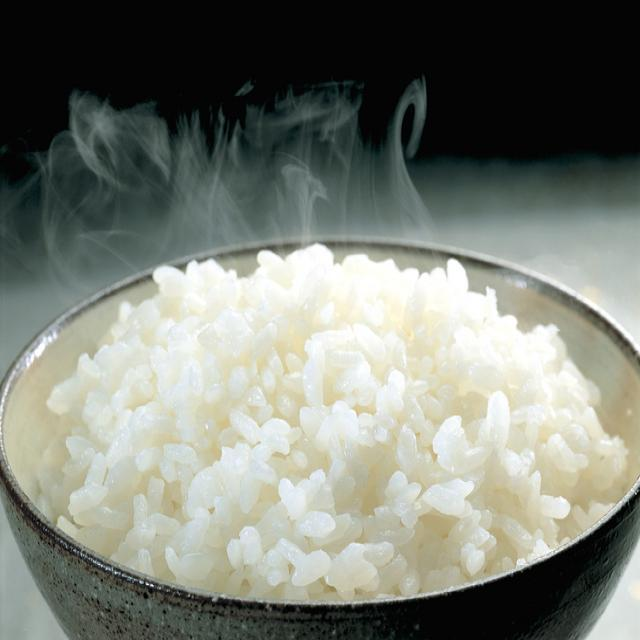Rice: (41, 240, 626, 604)
